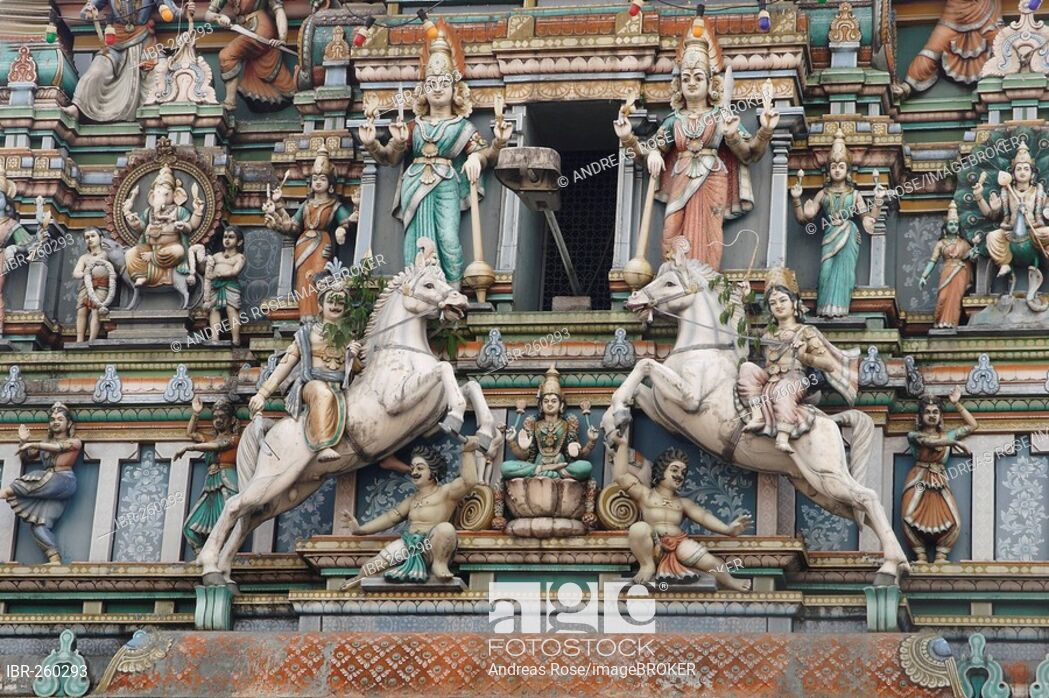Hindu Temple: (2, 13, 1038, 618)
